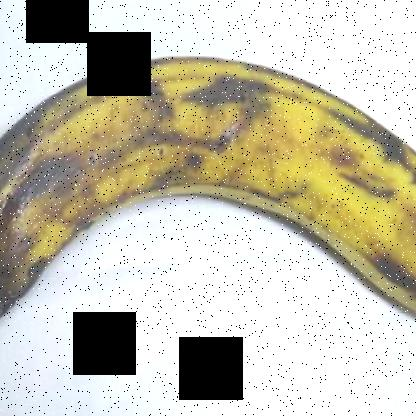overripe: (1, 50, 415, 349)
rotten: (1, 119, 96, 352)
